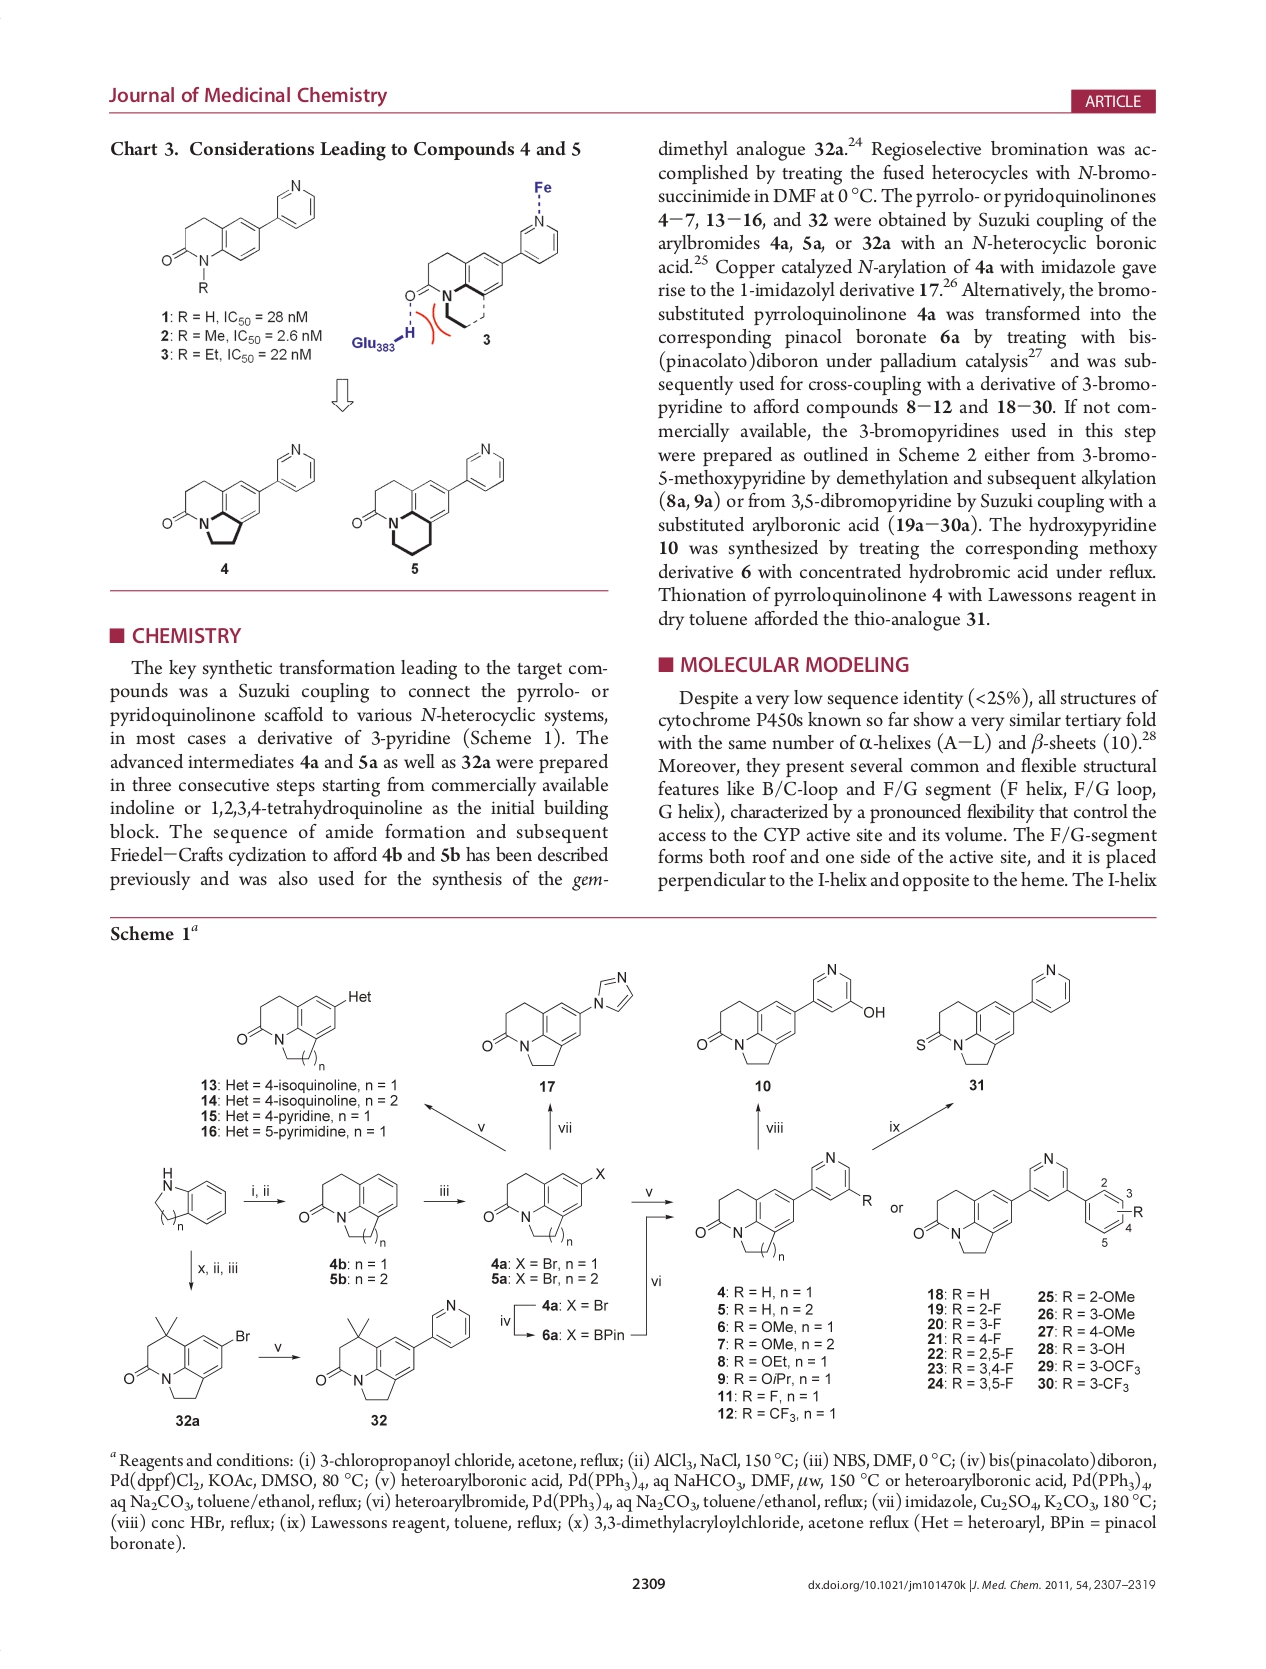exist_molecular: (347, 178, 563, 356), (910, 1146, 1144, 1257), (689, 962, 888, 1069), (692, 1146, 875, 1263), (154, 177, 320, 293), (350, 438, 511, 556), (313, 1295, 477, 1404), (914, 958, 1075, 1068), (160, 442, 320, 551), (475, 969, 636, 1073), (227, 985, 376, 1071), (122, 1311, 254, 1404), (479, 1164, 610, 1249), (293, 1166, 406, 1250), (144, 1164, 238, 1239)
